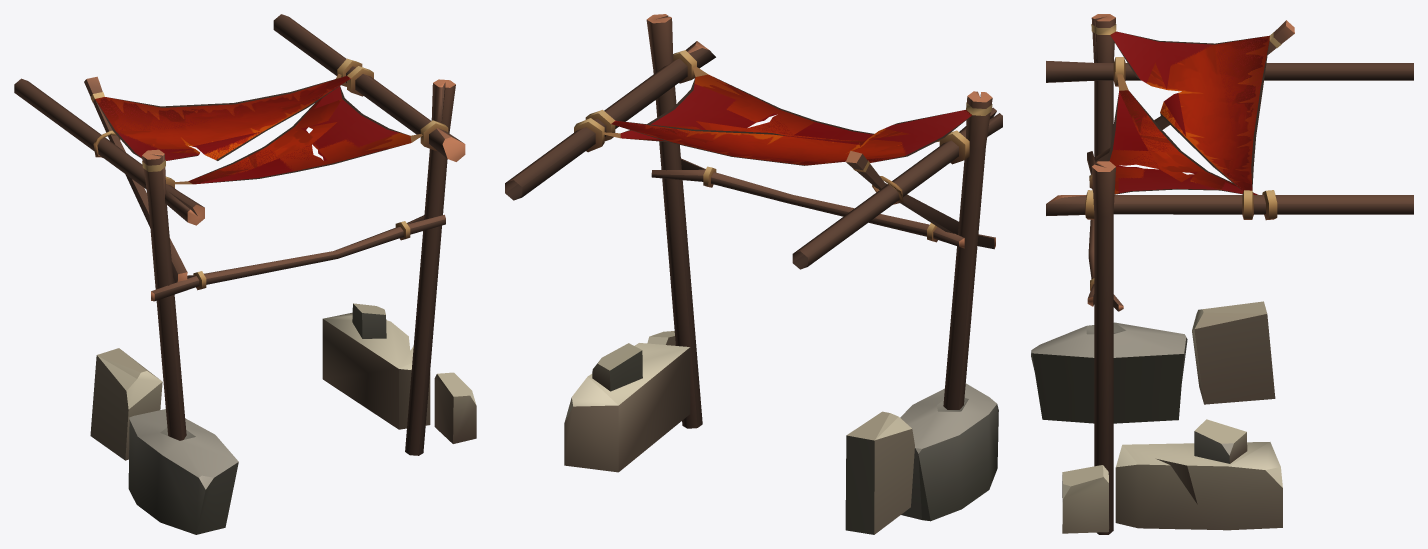
Rendered from Adjacent_Structure_1A.fbx.
The picture shows the model from 3 angles, left to right: view 1: azimuth 30°, elevation 25°; view 2: azimuth 150°, elevation 25°; view 3: azimuth 270°, elevation 25°; orthographic projection. The views are drawn at different scales.
Parts seen in each view (by area): view 1: Adjacent_Structure_1A; view 2: Adjacent_Structure_1A; view 3: Adjacent_Structure_1A.
Boxes of the visible parts, bbox=[...] form: Adjacent_Structure_1A: bbox=[14, 14, 476, 534]; Adjacent_Structure_1A: bbox=[505, 14, 1002, 534]; Adjacent_Structure_1A: bbox=[1031, 14, 1413, 534].
Bounding box in the file's own units: 360 × 407 × 364.
